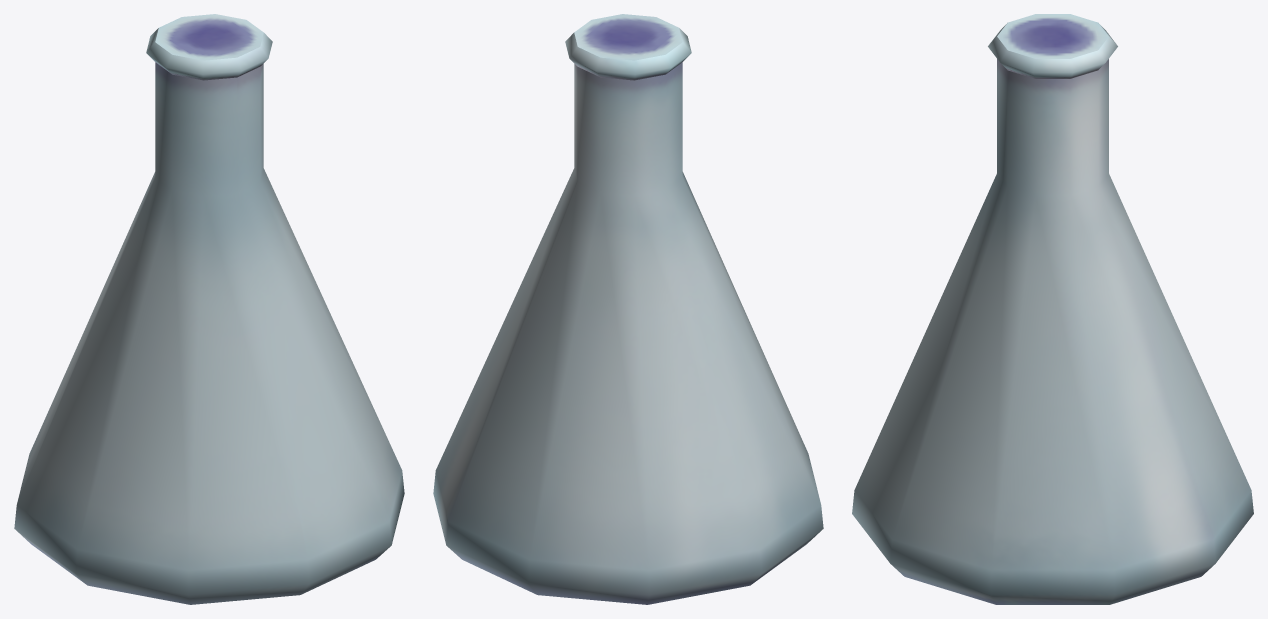
Rendered from Probeta 2.fbx.
3 views of the same model, side by side, from view 1: azimuth 30°, elevation 25°; view 2: azimuth 150°, elevation 25°; view 3: azimuth 270°, elevation 25° (orthographic).
Parts seen in each view (by area): view 1: probeta 2; view 2: probeta 2; view 3: probeta 2.
Part boxes in pixels (left/top/right/bottom): probeta 2: left=14, top=14, right=404, bottom=604; probeta 2: left=433, top=14, right=823, bottom=604; probeta 2: left=852, top=14, right=1253, bottom=604.
Bounding box in the file's own units: 24.81 × 35.42 × 26.08.
